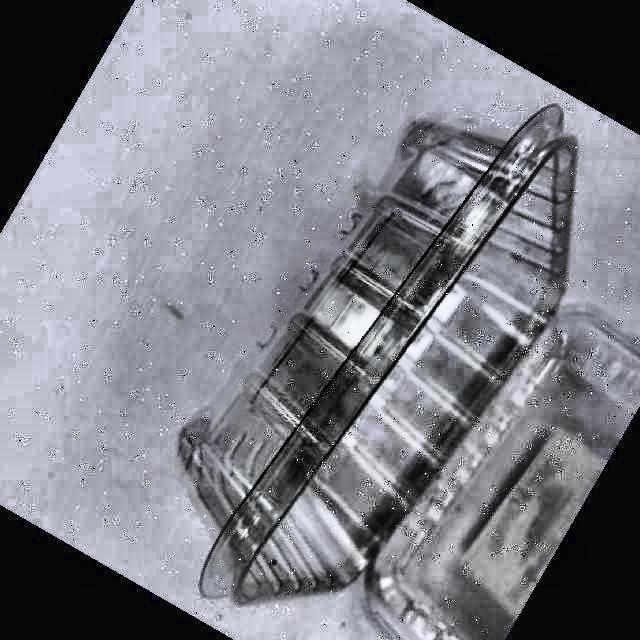plastic: (180, 106, 640, 640)
